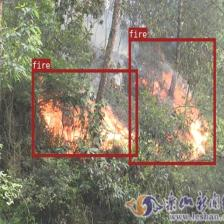fire: (128, 38, 215, 164), (32, 69, 138, 156)
